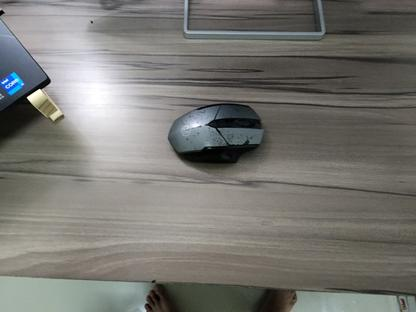mouse: (166, 102, 265, 164)
